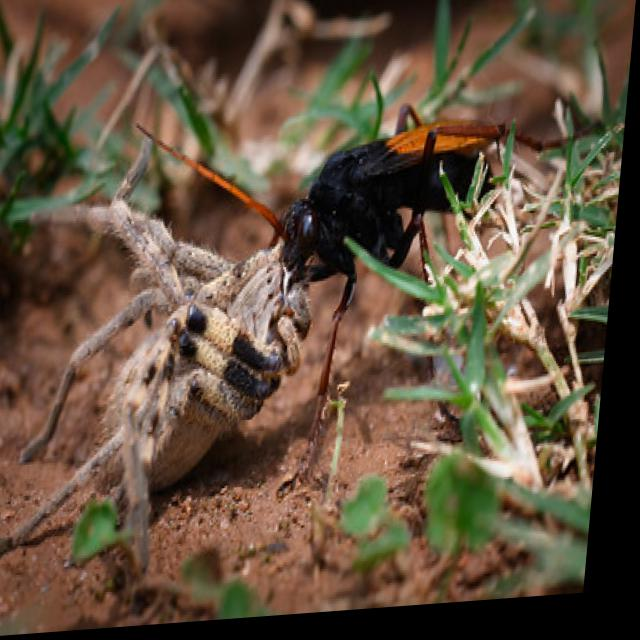Guepe: (115, 53, 556, 423)
